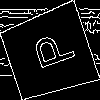P: (24, 28, 76, 75)
